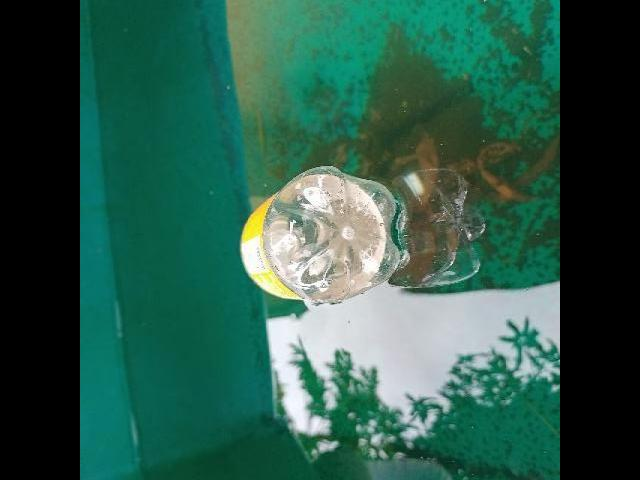Bottle: (232, 152, 414, 314)
